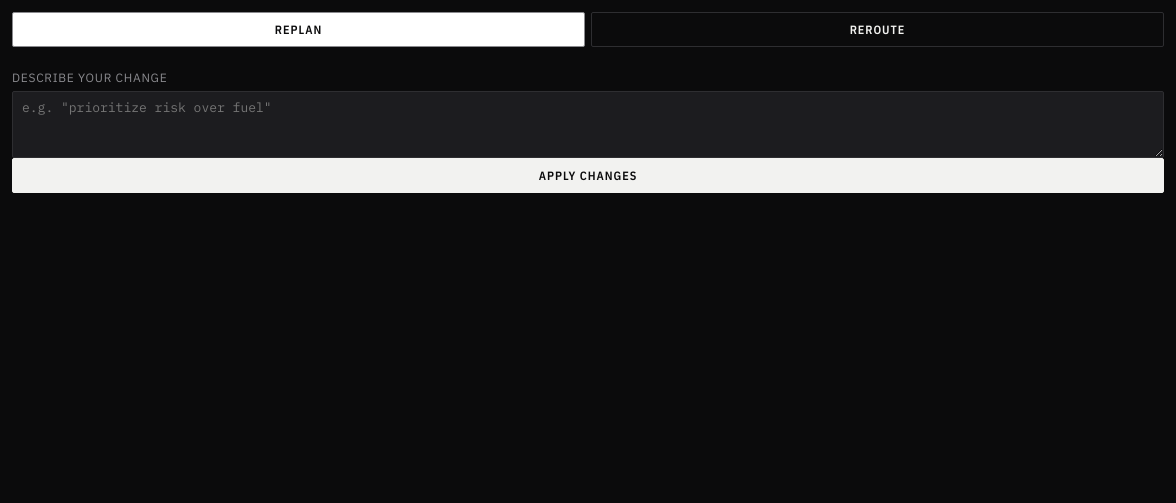
Test case: 1) Fuel prefill math › shows the ceiling label from fuelBudgetKmS
The width and height of the screenshot is (1176, 503).
What coordinates should you click on to do the following:
click the button "Reroute"
I would click on:
 (878, 30)
Its box is x1=591 y1=12 x2=1164 y2=47.
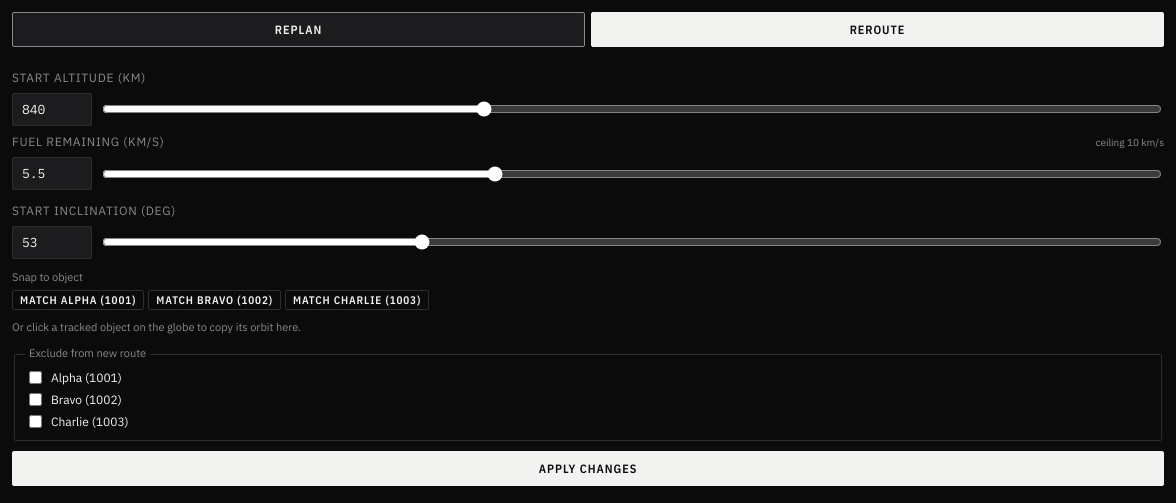
Expected: the text "ceiling 10 km/s" is shown, x1=1095 y1=136 x2=1164 y2=151
